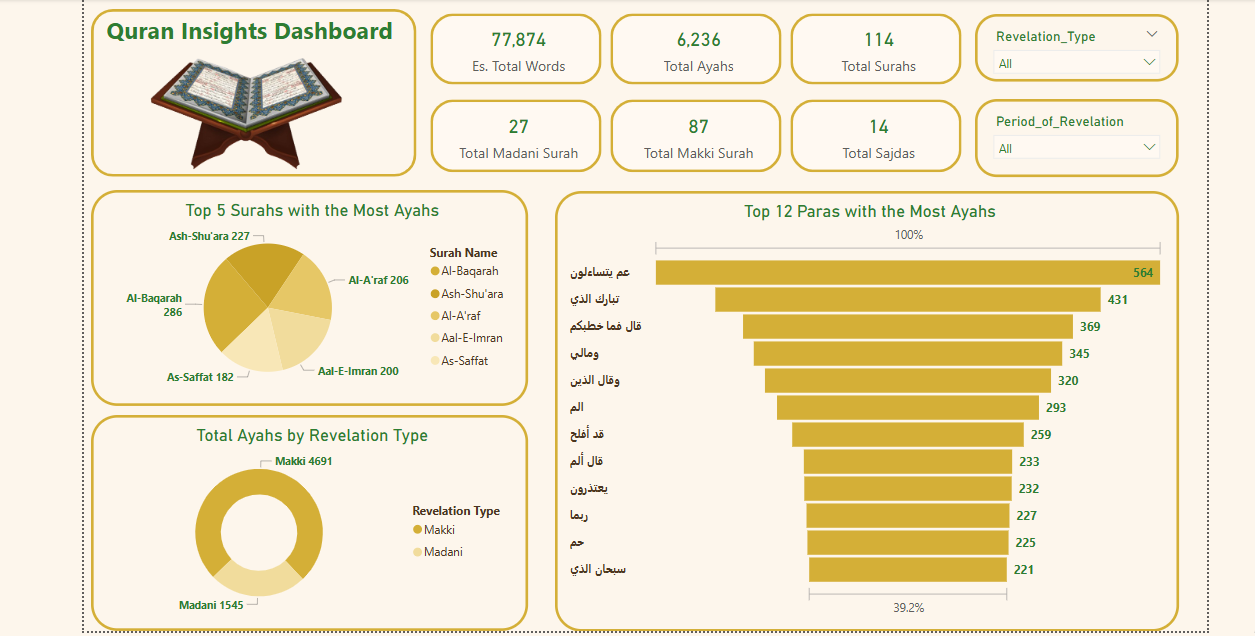

Layout of this report page (visuals, bound fields, positions):
{"tool":"powerbi","page":{"name":"Page 1","canvas":[1280,720],"ordinal":0},"visuals":[{"type":"shape","box":[8.1,11.5,370.6,191.1],"z":0},{"type":"cardVisual","fields":{"Data":["Sheet1.Es. Total Words"]},"box":[389.6,11.4,205.1,91.1],"z":1000},{"type":"textbox","box":[20.7,11.5,344.2,82.9],"z":2000},{"type":"image","box":[69.1,11.5,230.2,237.1],"z":3000},{"type":"cardVisual","fields":{"Data":["Sheet1.Madani_Surah_Count"]},"box":[389.6,109.4,205.1,93.4],"z":4000},{"type":"cardVisual","fields":{"Data":["Sheet1.TotalAyahsFormatted"]},"box":[594.7,11.4,205.1,91.1],"z":5000},{"type":"cardVisual","fields":{"Data":["Sheet1.Makki_Surah_Count"]},"box":[594.7,109.4,205.1,93.4],"z":6000},{"type":"cardVisual","title":"h","fields":{"Data":["Sheet1.Surah_Name_English"]},"box":[799.7,11.4,205.1,91.1],"z":7000},{"type":"cardVisual","fields":{"Data":["Sheet1.Sajdas_Count"]},"box":[799.7,109.4,205.1,93.4],"z":8000},{"type":"slicer","fields":{"Values":["Sheet1.Revelation_Type"]},"box":[1015.1,17.1,232.4,77.5],"z":9000},{"type":"slicer","fields":{"Values":["Sheet1.Period_of_Revelation"]},"box":[1015.1,113.9,232.4,88.9],"z":10000},{"type":"pieChart","title":"Top 5 Surahs with the Most Ayahs","fields":{"Category":["Sheet1.Surah_Name_English"],"Y":["Sheet1.Total_Ayahs"]},"box":[8,217.6,497.8,246.1],"z":11000},{"type":"donutChart","title":"Total Ayahs by Revelation Type","fields":{"Y":["Sheet1.Total_Ayahs"],"Category":["Sheet1.Revelation_Type"]},"box":[8,474,498,246],"z":12000},{"type":"funnel","title":"Top 12 Paras with the Most Ayahs","fields":{"Y":["Sheet1.Total_Ayahs"],"Category":["Sheet1.Parah_Name_Arabic"]},"box":[536.4,218.2,711.4,502.3],"z":13000}]}

Visuals, with their boxes in screenshot pixels (x1, y1, x2, y2):
shape: 92, 10, 416, 177
cardVisual - Sheet1.Es. Total Words: 425, 10, 604, 89
textbox: 103, 10, 403, 82
image: 145, 10, 346, 217
cardVisual - Sheet1.Madani_Surah_Count: 425, 95, 604, 177
cardVisual - Sheet1.TotalAyahsFormatted: 604, 10, 783, 89
cardVisual - Sheet1.Makki_Surah_Count: 604, 95, 783, 177
"h" cardVisual: 783, 10, 962, 89
cardVisual - Sheet1.Sajdas_Count: 783, 95, 962, 177
slicer - Sheet1.Revelation_Type: 971, 15, 1174, 83
slicer - Sheet1.Period_of_Revelation: 971, 99, 1174, 177
"Top 5 Surahs with the Most Ayahs" pieChart: 92, 190, 526, 405
"Total Ayahs by Revelation Type" donutChart: 92, 414, 527, 628
"Top 12 Paras with the Most Ayahs" funnel: 553, 190, 1174, 629
